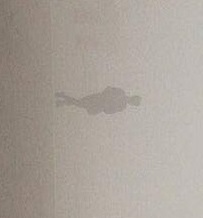person: (55, 84, 142, 116)
